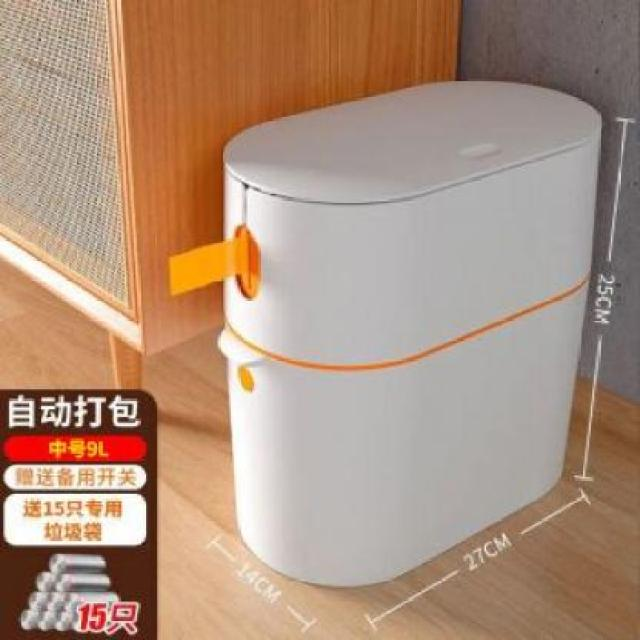dustbin: (163, 72, 605, 592)
